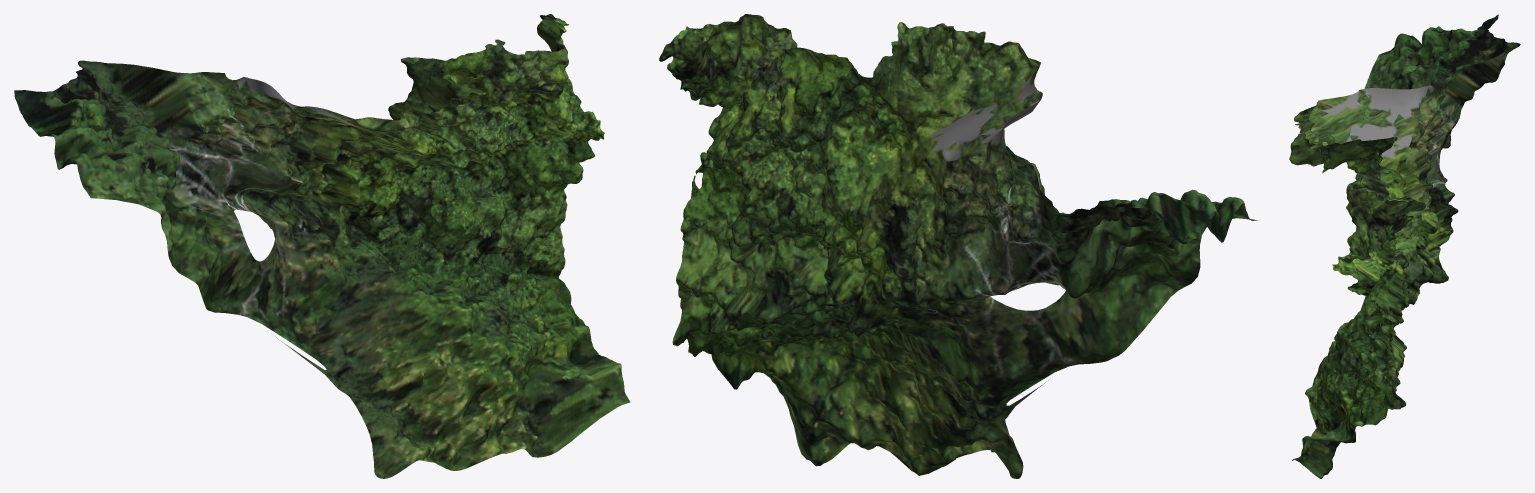
Rendered from Tile_+002_+020.fbx.
3 renders of one model, left to right at view 1: azimuth 30°, elevation 25°; view 2: azimuth 150°, elevation 25°; view 3: azimuth 270°, elevation 25°, orthographic. The views are drawn at different scales.
Parts seen in each view (by area): view 1: DefaultName; view 2: DefaultName; view 3: DefaultName.
Boxes of the visible parts, x1,y1,x2,y2 form: DefaultName: [14, 14, 630, 478]; DefaultName: [659, 14, 1259, 478]; DefaultName: [1289, 14, 1520, 478].
Bounding box in the file's own units: 22.54 × 17.17 × 11.89.
